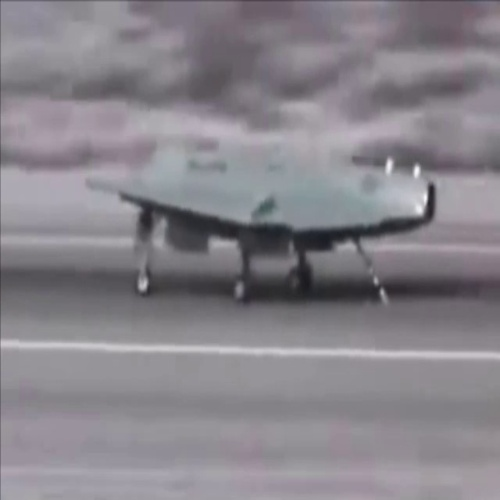uav: (67, 148, 440, 311)
